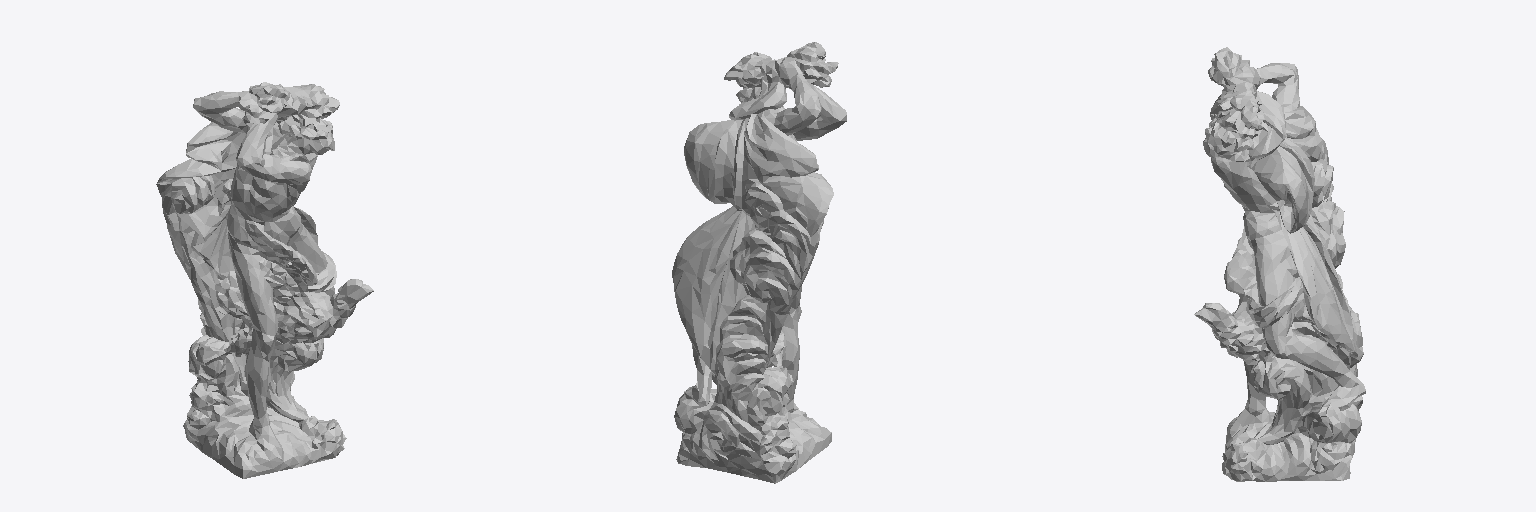
File: zeus.obj
3 renders of one model, left to right at view 1: azimuth 30°, elevation 25°; view 2: azimuth 150°, elevation 25°; view 3: azimuth 270°, elevation 25°, orthographic.
Visible parts, largest first — view 1: SM_Zeus_low_Material.001_0; view 2: SM_Zeus_low_Material.001_0; view 3: SM_Zeus_low_Material.001_0.
Boxes of the visible parts, x1=… form: SM_Zeus_low_Material.001_0: x1=156, y1=82, x2=373, y2=478; SM_Zeus_low_Material.001_0: x1=672, y1=42, x2=846, y2=483; SM_Zeus_low_Material.001_0: x1=1194, y1=47, x2=1365, y2=481.
Size of the model in its own units: 4.27 by 10.04 by 4.01.